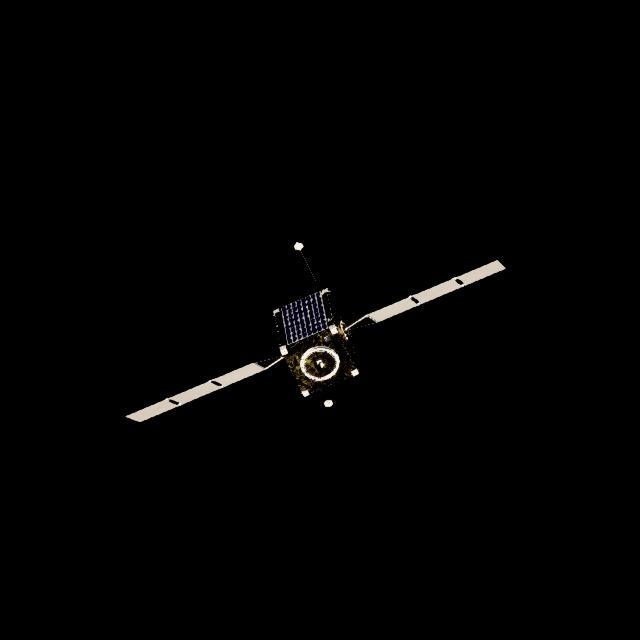satellite: (132, 242, 502, 422)
